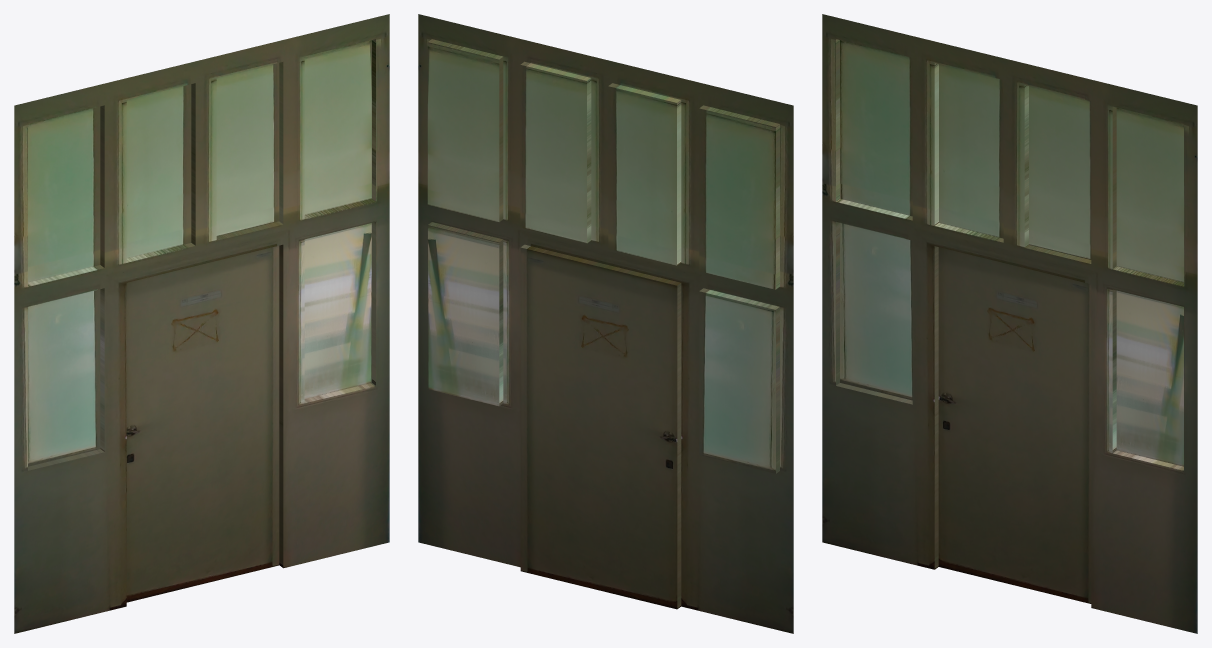
The model's file is kordoor_4_et.glb.
The picture shows the model from 3 angles, left to right: view 1: azimuth 30°, elevation 25°; view 2: azimuth 150°, elevation 25°; view 3: azimuth 330°, elevation 25°; orthographic projection.
Visible parts, largest first — view 1: 4et.001; view 2: 4et.001; view 3: 4et.001.
Part boxes in pixels (<box>): 4et.001: <box>14,14,389,633</box>; 4et.001: <box>418,14,793,633</box>; 4et.001: <box>822,14,1197,633</box>.
Bounding box in the file's own units: 2.45 × 3.3 × 0.0474.
1 material, 1 textured.
